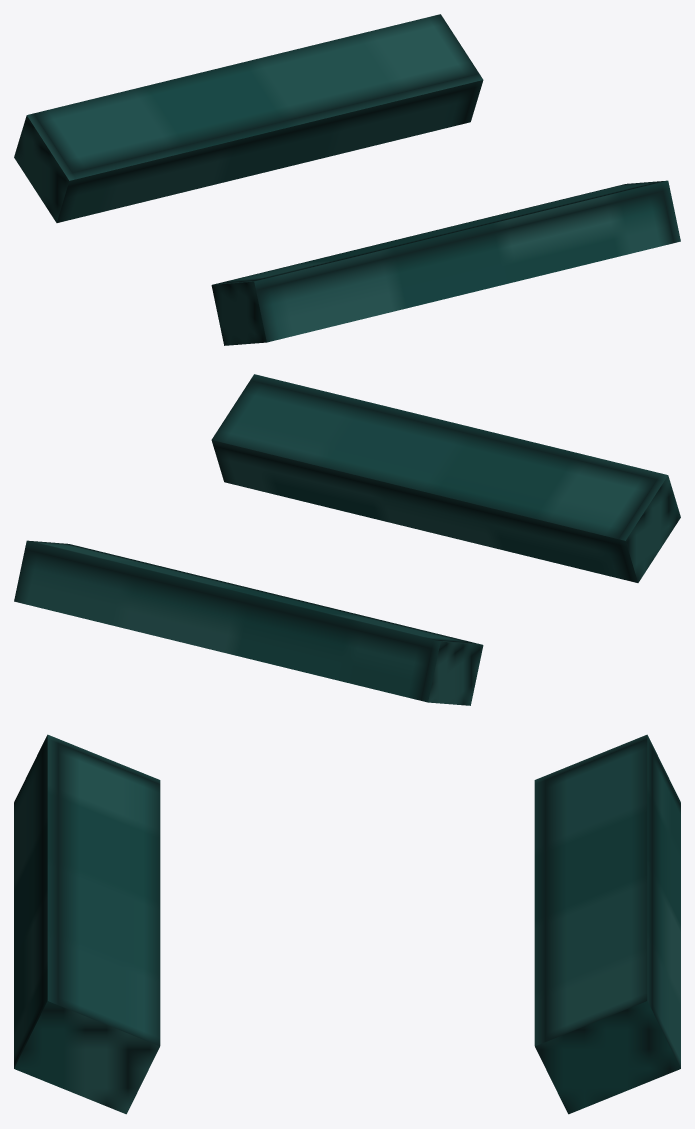
File: cleanstreets_spike_lane_curbs.obj
3 renders of one model, top to bottom at view 1: azimuth 30°, elevation 25°; view 2: azimuth 150°, elevation 25°; view 3: azimuth 270°, elevation 25°, orthographic. The views are drawn at different scales.
Size of the model in its own units: 0.92 by 0.183 by 0.9733.
Materials: 1 (1 with a texture image).
